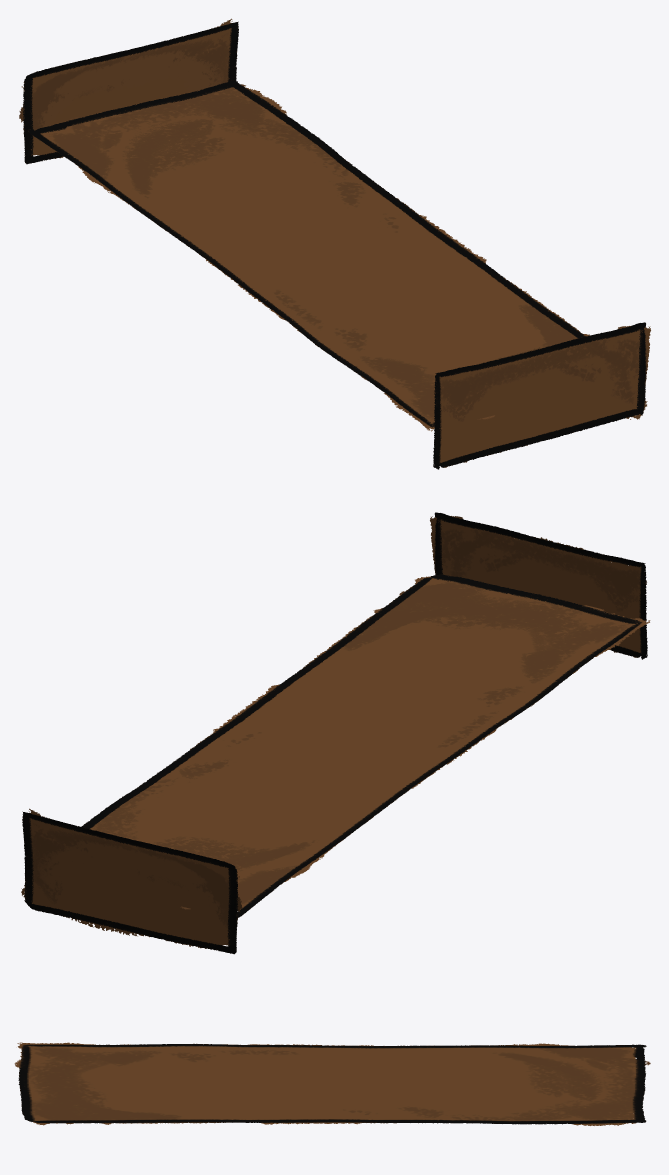
The model's file is MSH_EtagèreMurale.fbx.
3 views of the same model, one above another, from view 1: azimuth 30°, elevation 25°; view 2: azimuth 150°, elevation 25°; view 3: azimuth 270°, elevation 25° (orthographic). The views are drawn at different scales.
Parts seen in each view (by area): view 1: MSH_Etagère_Murale; view 2: MSH_Etagère_Murale; view 3: MSH_Etagère_Murale.
Boxes of the visible parts, <box> form: MSH_Etagère_Murale: <box>19,18,650,469</box>; MSH_Etagère_Murale: <box>21,512,650,954</box>; MSH_Etagère_Murale: <box>14,1042,650,1125</box>.
Bounding box in the file's own units: 0.3849 × 0.1767 × 1.24.
1 material, 1 textured.
